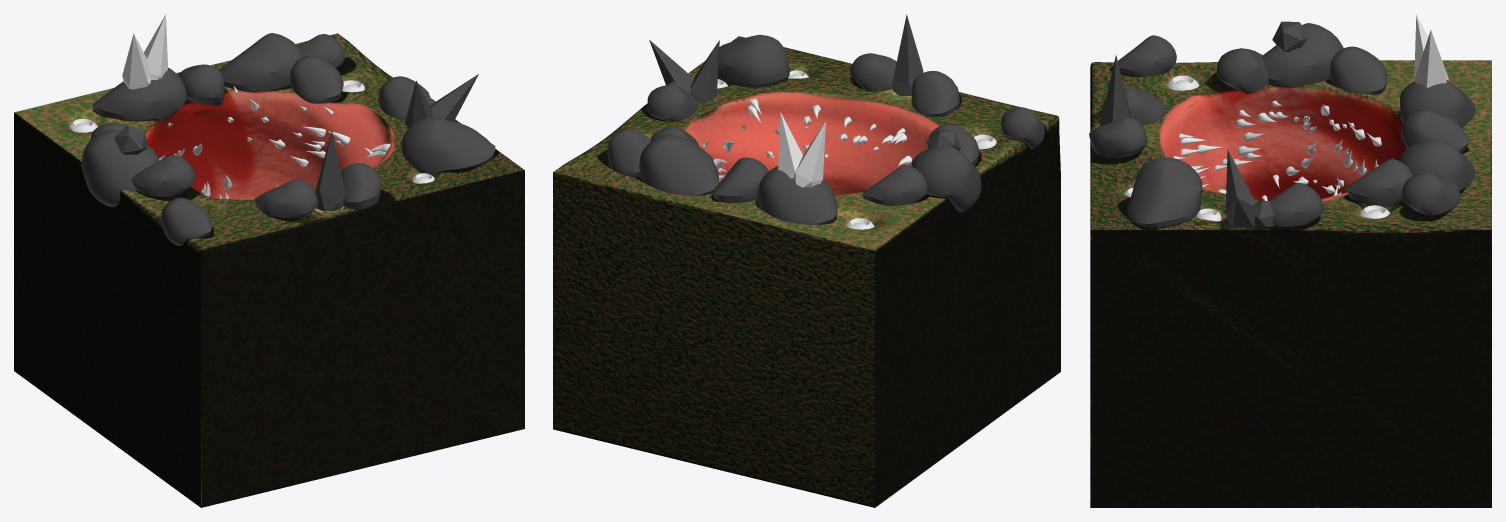
File: GapingMaw (1).fbx
3 renders of one model, left to right at view 1: azimuth 30°, elevation 25°; view 2: azimuth 150°, elevation 25°; view 3: azimuth 270°, elevation 25°, orthographic. The views are drawn at different scales.
Parts seen in each view (by area): view 1: Cube, Sphere.008, Sphere.009, Sphere, Sphere.013, Sphere.006, Sphere.011, Sphere.007, Sphere.016, Sphere.018, Sphere.014, DiamondDice.003 (+7 smaller); view 2: Cube, Sphere, Sphere.013, Sphere.008, Sphere.009, Sphere.007, Sphere.010, Sphere.014, Sphere.012, Sphere.015, Sphere.018, DiamondDice.003 (+6 smaller); view 3: Cube, Sphere.008, Sphere.009, Sphere, Sphere.013, Sphere.010, Sphere.006, Sphere.012, Sphere.014, Sphere.018, Sphere.011, Sphere.015 (+9 smaller).
Boxes of the visible parts, box(x1,y1,x2,y2) form: Cube: box(14, 33, 524, 507); Sphere.008: box(401, 117, 495, 176); Sphere.009: box(81, 130, 159, 207); Sphere: box(218, 33, 303, 92); Sphere.013: box(92, 67, 186, 122); Sphere.006: box(289, 55, 343, 103); Sphere.011: box(131, 154, 195, 196); Sphere.007: box(254, 179, 318, 218); Sphere.016: box(160, 198, 211, 245); Sphere.018: box(341, 163, 380, 209); Sphere.014: box(178, 64, 224, 106); DiamondDice.003: box(315, 131, 345, 211); Cube: box(553, 36, 1060, 507); Sphere: box(639, 134, 718, 195); Sphere.013: box(757, 166, 837, 224); Sphere.008: box(717, 34, 789, 87); Sphere.009: box(911, 145, 981, 212); Sphere.007: box(911, 71, 959, 117); Sphere.010: box(863, 165, 927, 205); Sphere.014: box(712, 157, 768, 202); Sphere.012: box(607, 129, 651, 176); Sphere.015: box(647, 84, 697, 121); Sphere.018: box(850, 53, 896, 91); DiamondDice.003: box(892, 14, 923, 96); Cube: box(1090, 60, 1491, 507); Sphere.008: box(1127, 157, 1202, 227); Sphere.009: box(1262, 23, 1343, 86); Sphere: box(1400, 139, 1474, 190); Sphere.013: box(1400, 80, 1474, 127); Sphere.010: box(1329, 46, 1387, 94); Sphere.006: box(1345, 159, 1412, 206); Sphere.012: box(1402, 172, 1460, 215); Sphere.014: box(1401, 109, 1469, 152); Sphere.018: box(1089, 117, 1147, 158); Sphere.011: box(1216, 48, 1268, 93); Sphere.015: box(1268, 183, 1323, 226).
Size of the model in its own units: 264 by 245 by 239.
